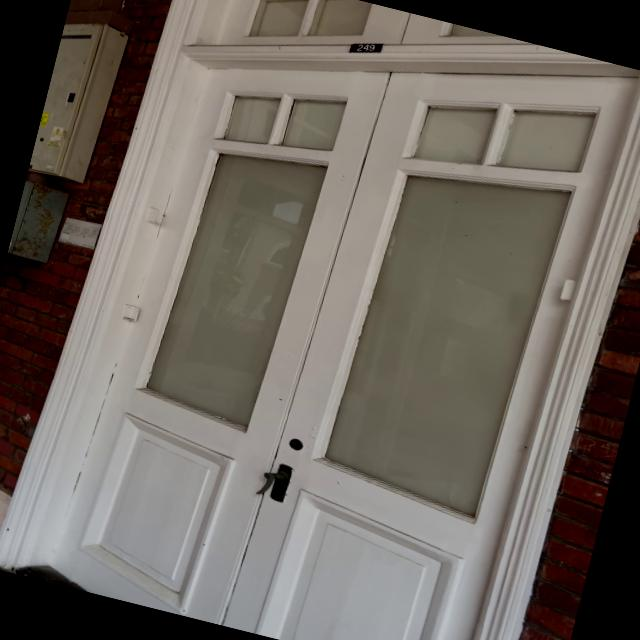room249: (345, 34, 385, 60)
